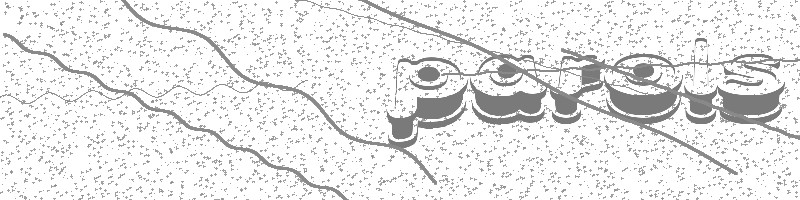a: (471, 53, 547, 124)
l: (682, 36, 718, 125)
o: (604, 50, 682, 125)
p: (384, 55, 468, 150)
r: (550, 51, 605, 122)
s: (718, 52, 784, 124)
